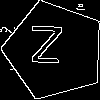Z: (29, 26, 63, 73)
